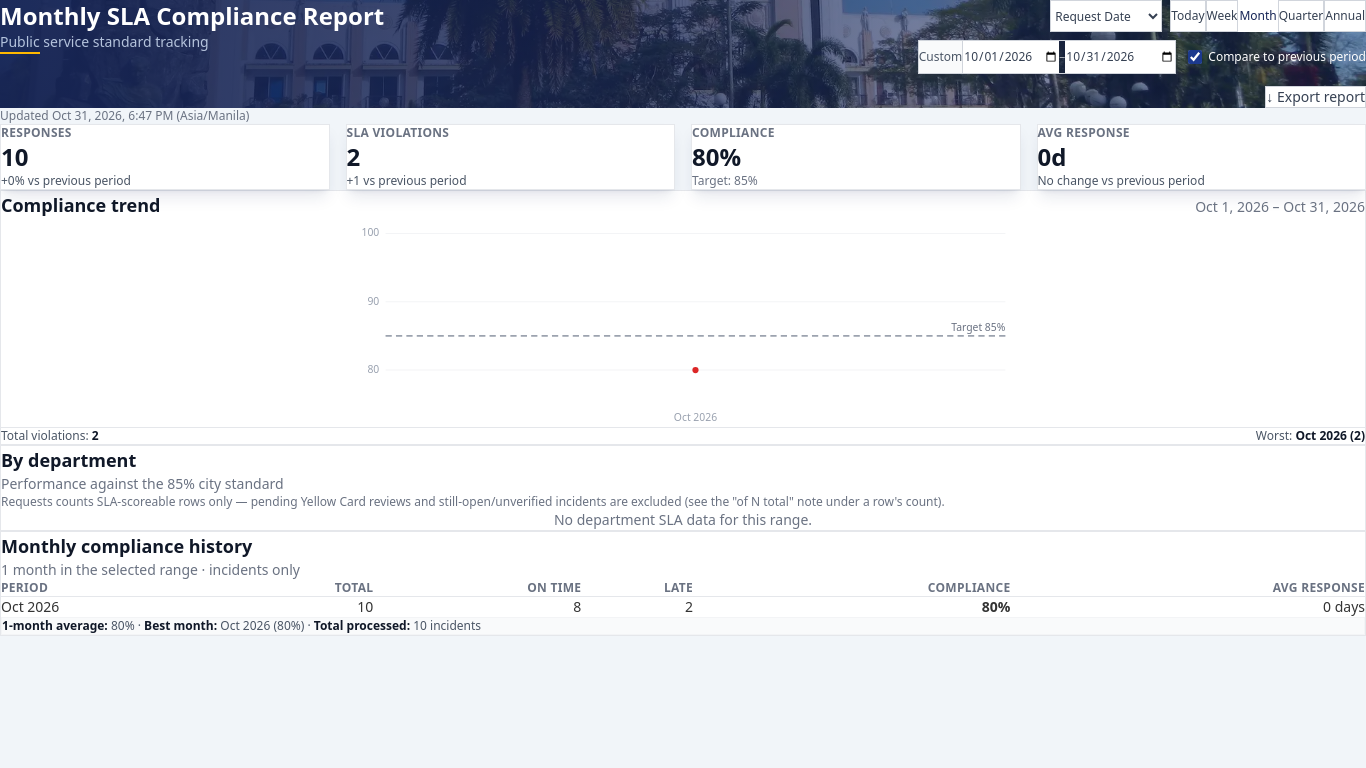
SLAReportsPage › renders the monthly compliance history with a real, derived summary footer
The image size is (1366, 768).
Expected: the text "No department SLA data for this range." is shown, [554,510,812,529]
Click the button "Annual": (1345, 16) [1324,0,1365,32]
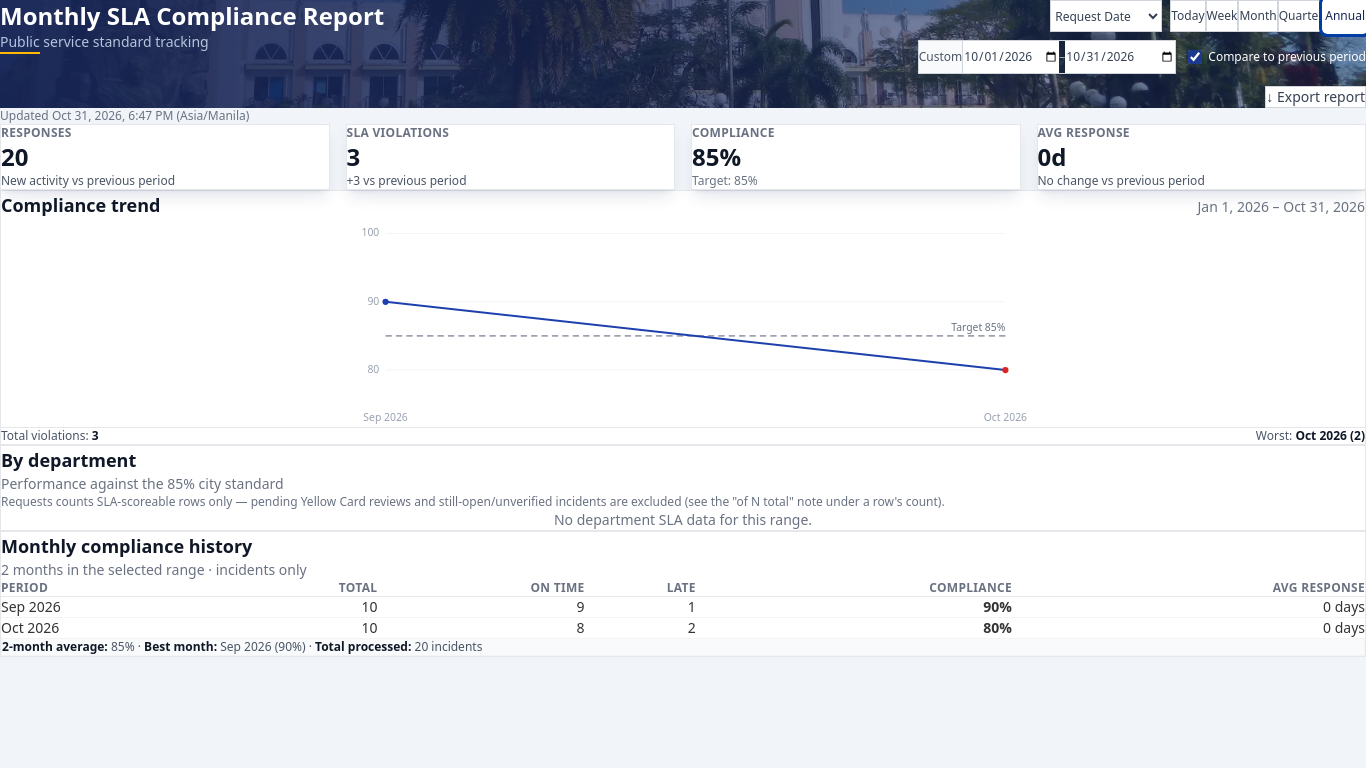
Expected: the heading "Monthly compliance history" is shown, [1,534,252,558]
Expected: the text "20 incidents" is shown, [1,638,1365,656]
